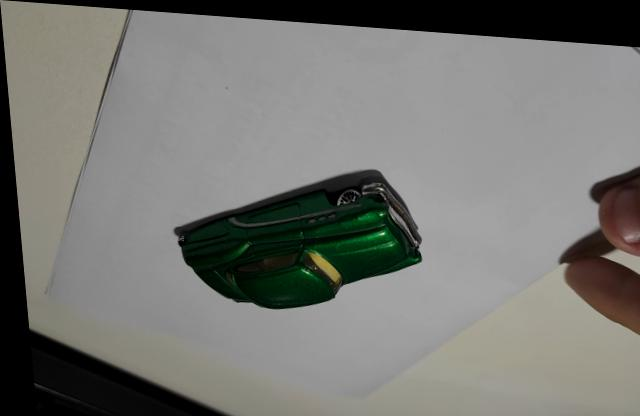06_MASERATI: (170, 162, 418, 305)
